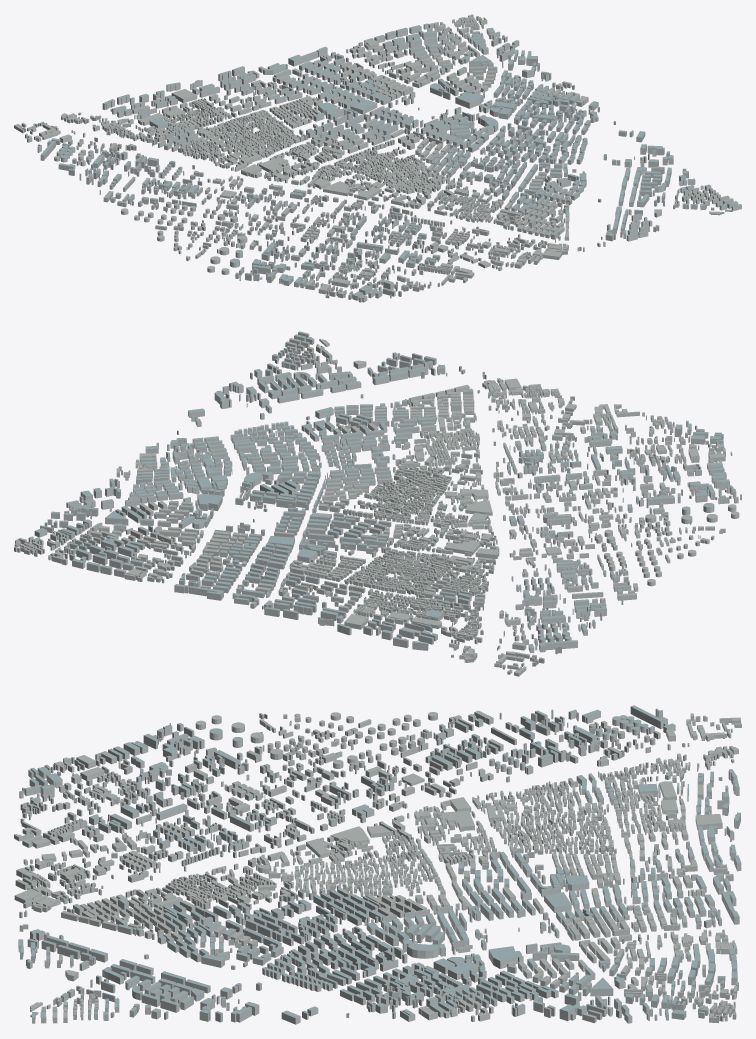
Rendered from far.glb.
The picture shows the model from 3 angles, top to bottom: view 1: azimuth 30°, elevation 25°; view 2: azimuth 150°, elevation 25°; view 3: azimuth 270°, elevation 25°; orthographic projection. The views are drawn at different scales.
Size of the model in its own units: 2149 by 32.07 by 2120.
